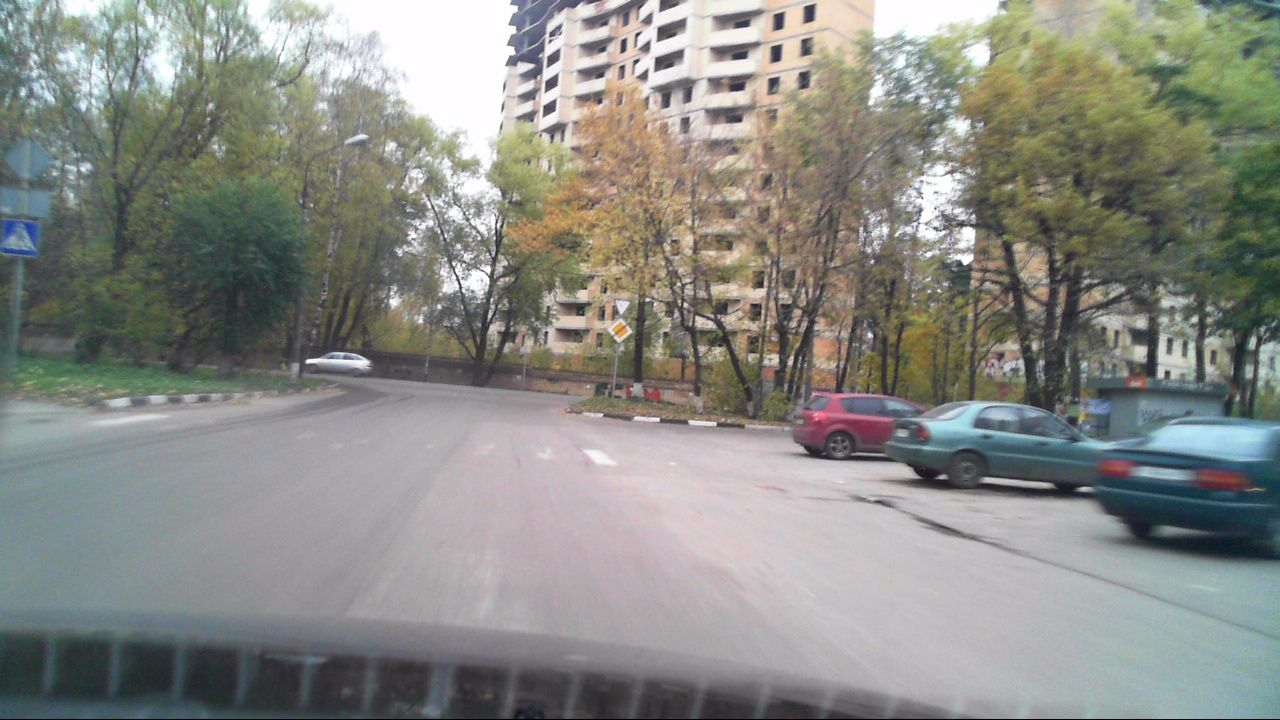main road: (608, 318, 631, 342)
